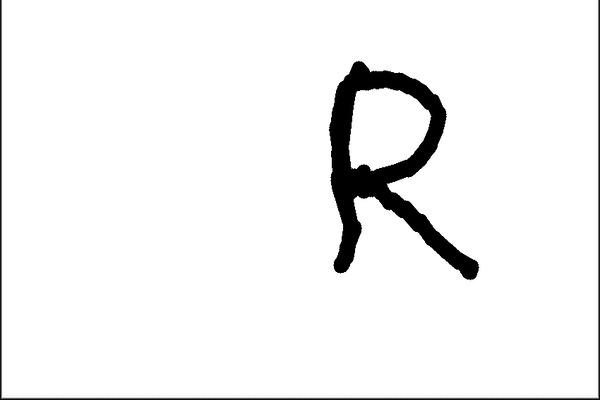R: (311, 54, 486, 295)
